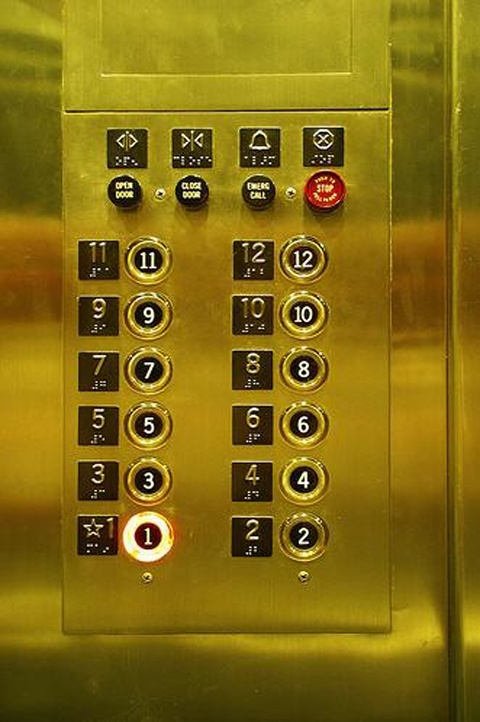1: (122, 510, 174, 562)
10: (277, 290, 331, 340), (227, 291, 276, 338)
11: (123, 236, 174, 286), (74, 237, 122, 283)
12: (277, 234, 329, 284), (229, 237, 278, 283)
2: (278, 510, 330, 562), (227, 512, 276, 560)
3: (124, 456, 172, 505), (74, 455, 121, 503)
4: (277, 456, 330, 505), (228, 457, 275, 504)
5: (124, 401, 173, 451), (75, 401, 121, 448)
6: (279, 401, 330, 449), (228, 401, 277, 448)
7: (124, 346, 174, 395), (74, 347, 121, 394)
8: (277, 346, 329, 393), (228, 347, 276, 393)
9: (122, 291, 174, 341), (75, 292, 121, 339)
alarm: (236, 123, 284, 169)
close: (168, 125, 215, 170)
open: (102, 124, 151, 171)
s1: (74, 510, 120, 558)
stop: (299, 122, 347, 169)
text_alarm: (241, 173, 276, 209)
text_close: (173, 173, 210, 208)
text_open: (105, 174, 142, 209)
text_stop: (301, 168, 346, 212)
